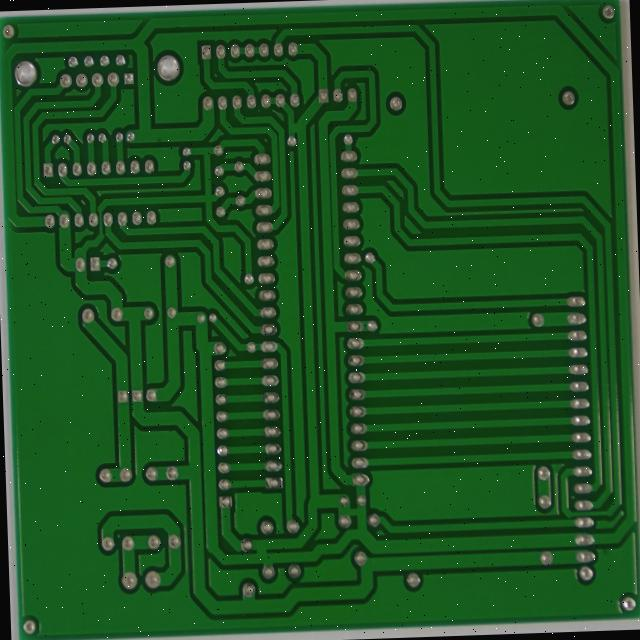short: (315, 484, 342, 511), (217, 527, 240, 555)
